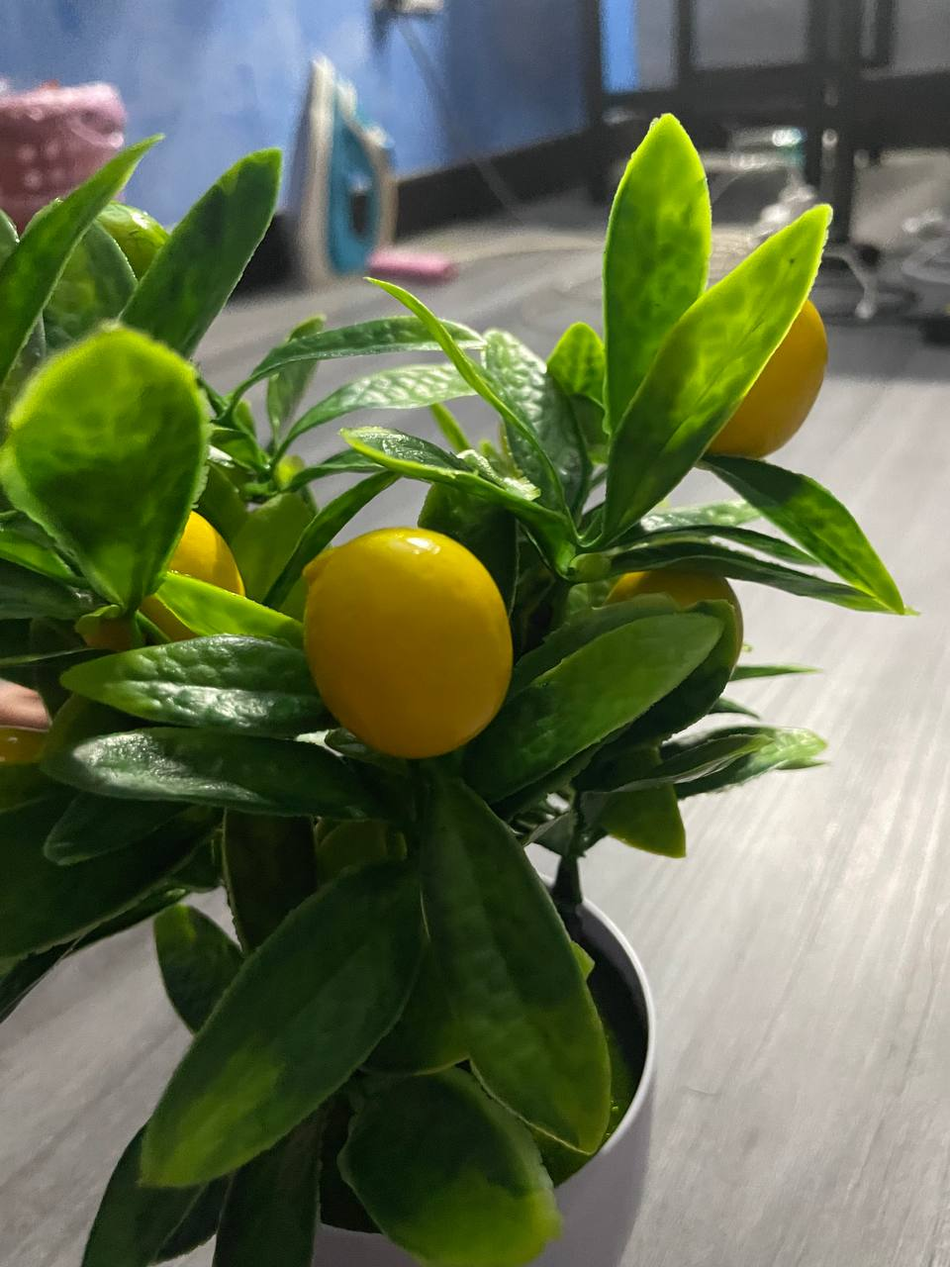lime_ripe: (300, 526, 514, 763), (712, 288, 830, 462)
